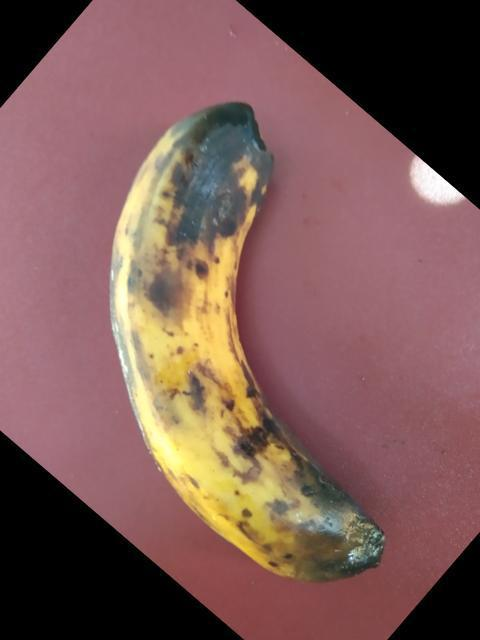rotten: (98, 97, 418, 611)
